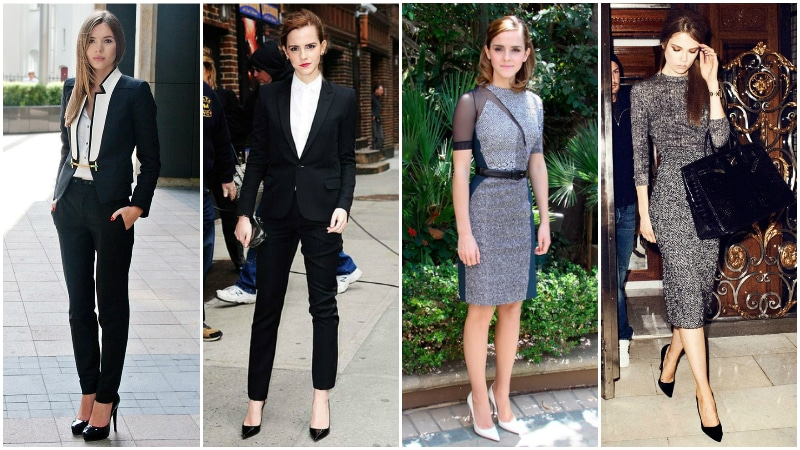F_W_suit jacket: (215, 63, 373, 252), (53, 68, 162, 227)
